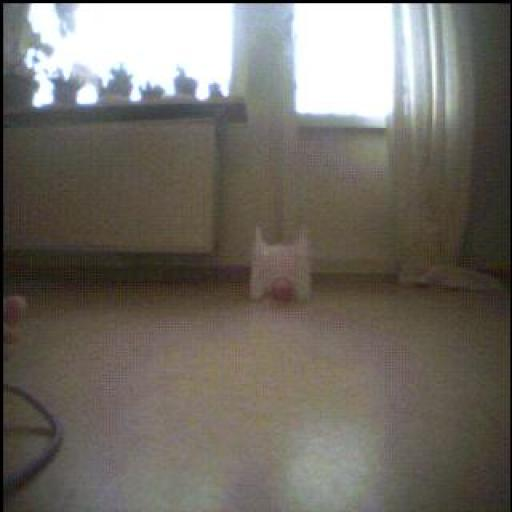Basket: (274, 277, 297, 303)
